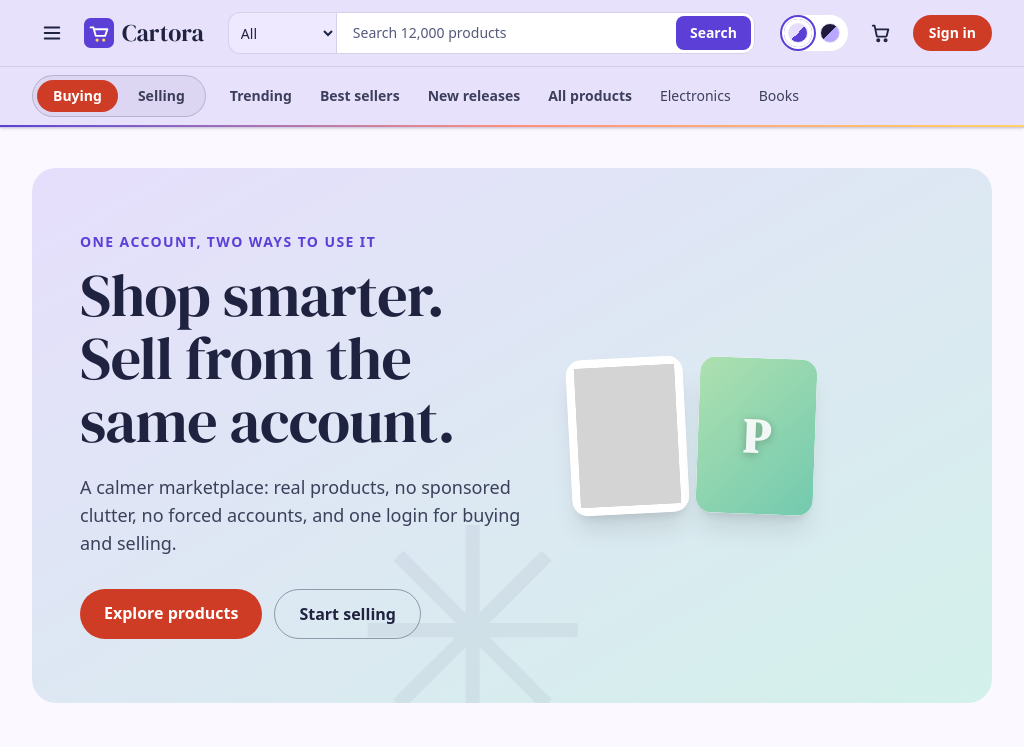
Test: buying and selling switch › sends a guest who picks Selling to sign in
Step 1. Click the link "Selling" → (161, 96), box [138,86,185,105]
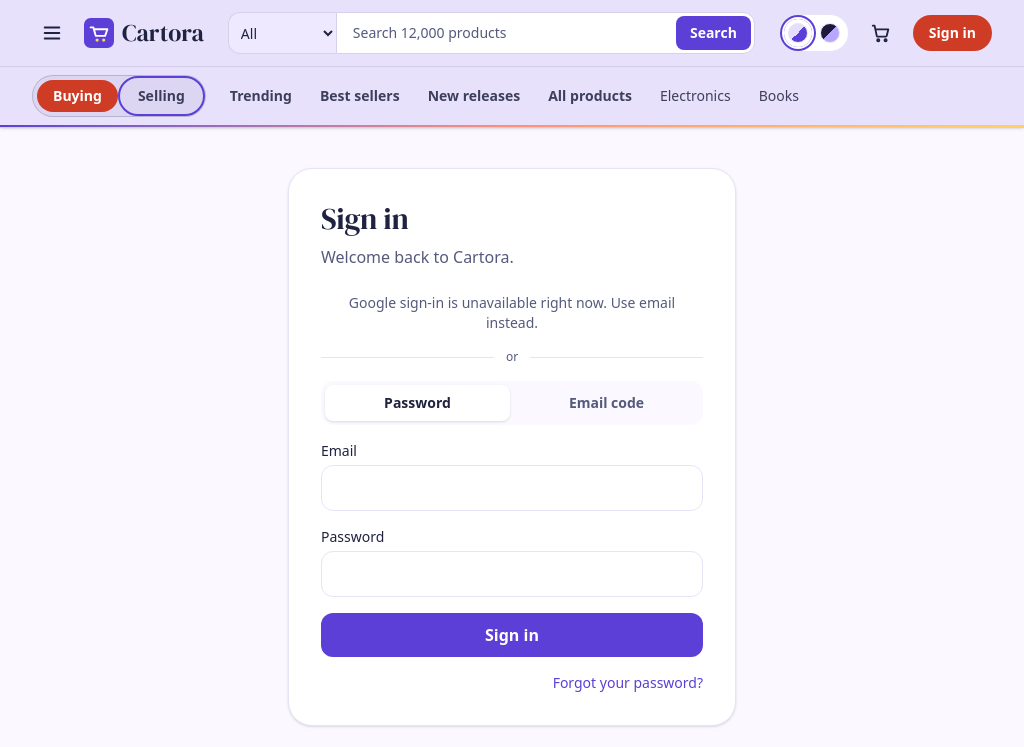
Expected: the heading "Sign in" is shown, [321,198,408,239]
